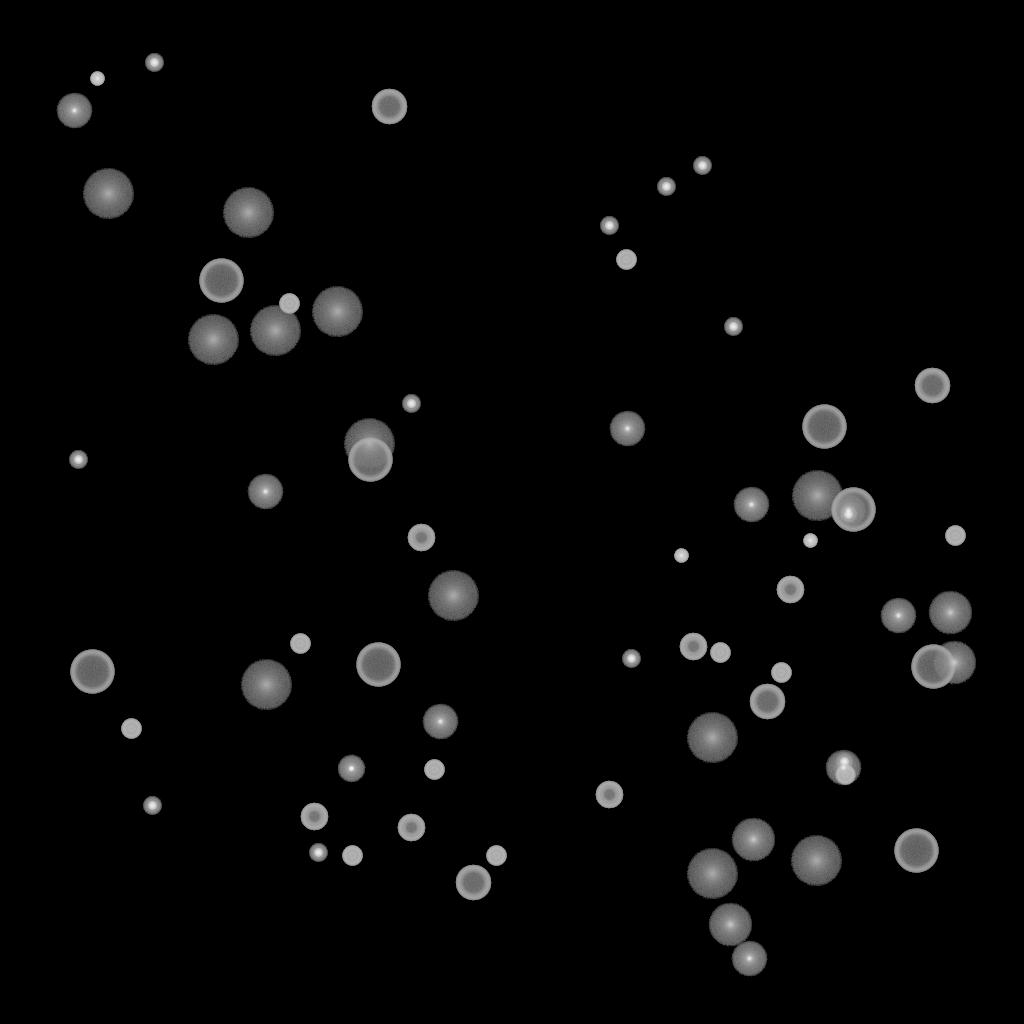depth:-10: (337, 755, 365, 783)
depth:-20: (622, 650, 640, 668), (600, 217, 618, 235), (839, 506, 857, 524), (69, 451, 87, 469), (143, 797, 161, 815), (724, 318, 742, 336), (657, 178, 675, 196), (145, 54, 163, 72), (309, 844, 327, 862), (402, 395, 420, 413), (693, 157, 711, 175), (835, 753, 853, 771)
depth:-30: (674, 549, 688, 563), (803, 534, 817, 548), (90, 72, 104, 86)
depth:-40: (945, 526, 965, 546), (835, 765, 855, 785), (279, 294, 299, 314), (290, 634, 310, 654), (616, 250, 636, 270), (424, 760, 444, 780), (486, 846, 506, 866), (771, 663, 791, 683), (121, 719, 141, 739), (710, 643, 730, 663), (342, 846, 362, 866)
depth:-50: (397, 814, 425, 842), (776, 576, 804, 604), (300, 803, 328, 831), (679, 633, 707, 661), (407, 524, 435, 552), (595, 781, 623, 809)
depth:-60: (749, 684, 785, 720), (371, 89, 407, 125), (455, 865, 491, 901), (914, 368, 950, 404)
depth:-70: (70, 650, 114, 694), (348, 438, 392, 482), (894, 829, 938, 873), (802, 405, 846, 449), (199, 259, 243, 303), (831, 488, 875, 532), (911, 645, 955, 689), (356, 643, 400, 687)
depth:0: (422, 704, 458, 740), (609, 411, 645, 447), (880, 598, 916, 634), (825, 750, 861, 786), (830, 493, 866, 529), (733, 487, 769, 523), (731, 941, 767, 977), (247, 474, 283, 510), (56, 93, 92, 129)
depth:10: (932, 641, 976, 685), (708, 903, 752, 947), (928, 591, 972, 635), (731, 818, 775, 862)
depth:20: (311, 287, 363, 337), (791, 471, 843, 521), (187, 315, 239, 365), (686, 713, 738, 763), (790, 836, 842, 886), (249, 306, 301, 356), (427, 571, 479, 621), (686, 849, 738, 899), (82, 169, 134, 219), (222, 188, 274, 238), (343, 419, 395, 469), (240, 660, 292, 710)
